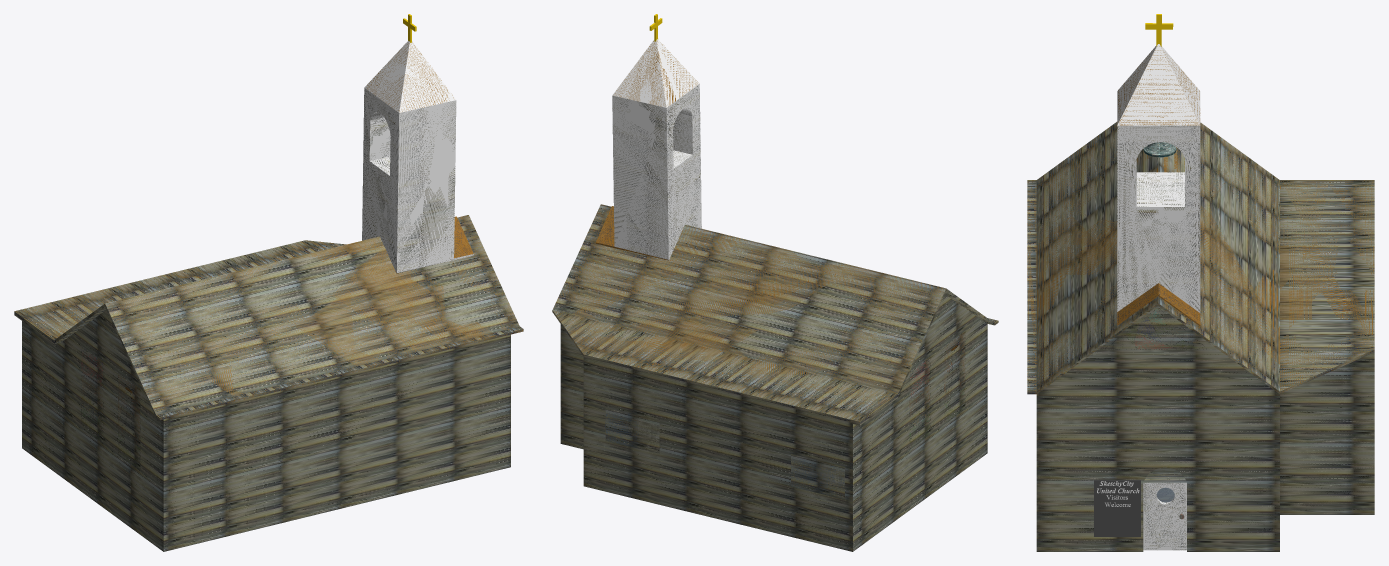
3 renders of one model, left to right at view 1: azimuth 30°, elevation 25°; view 2: azimuth 150°, elevation 25°; view 3: azimuth 270°, elevation 25°, orthographic. The views are drawn at different scales.
Parts seen in each view (by area): view 1: mesh8_mesh8-geometry, mesh7_mesh7-geometry; view 2: mesh8_mesh8-geometry, mesh7_mesh7-geometry; view 3: mesh8_mesh8-geometry, mesh7_mesh7-geometry.
Boxes of the visible parts, x1,y1,x2,y2 form: mesh8_mesh8-geometry: [14, 215, 523, 551]; mesh7_mesh7-geometry: [362, 41, 473, 273]; mesh8_mesh8-geometry: [552, 204, 998, 551]; mesh7_mesh7-geometry: [595, 39, 701, 260]; mesh8_mesh8-geometry: [1027, 122, 1374, 551]; mesh7_mesh7-geometry: [1117, 44, 1200, 326].
Size of the model in its own units: 0.6043 by 0.6774 by 0.4195.
